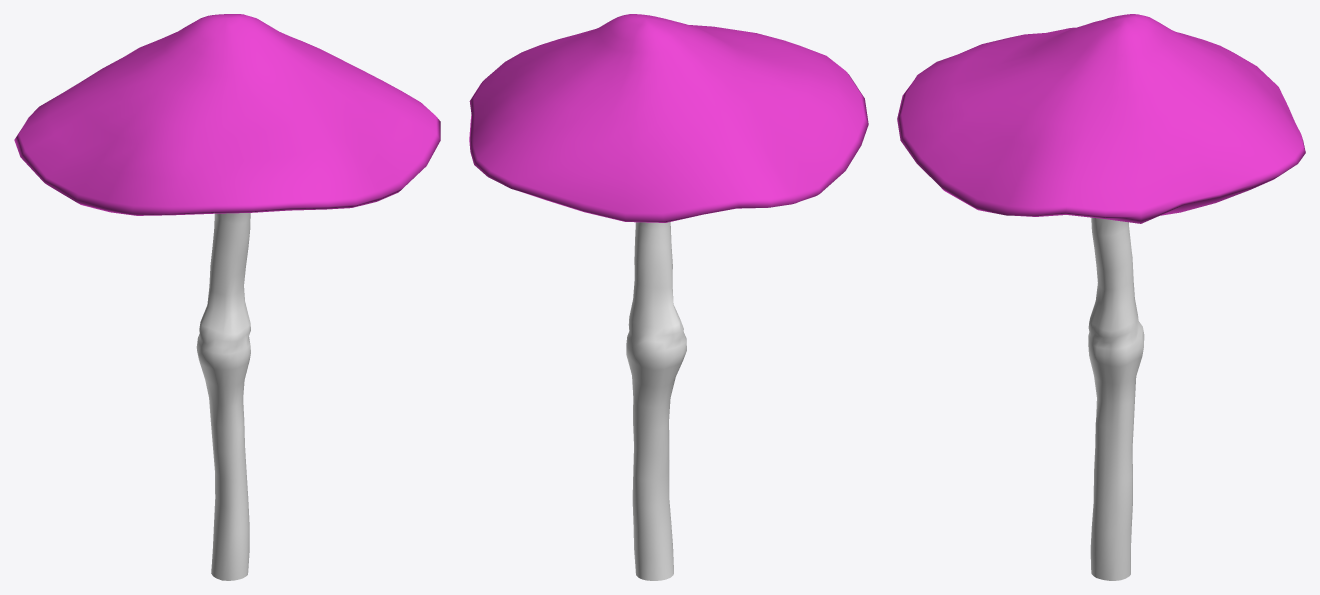
Rendered from HongoAlto1_low4.fbx.
The picture shows the model from 3 angles, left to right: view 1: azimuth 30°, elevation 25°; view 2: azimuth 150°, elevation 25°; view 3: azimuth 270°, elevation 25°; orthographic projection.
Visible parts, largest first — view 1: HongoAlto1_low4; view 2: HongoAlto1_low4; view 3: HongoAlto1_low4.
Boxes of the visible parts, x1,y1,x2,y2 form: HongoAlto1_low4: (14, 14, 440, 580); HongoAlto1_low4: (469, 14, 868, 580); HongoAlto1_low4: (897, 14, 1305, 580).
Bounding box in the file's own units: 11.02 × 10.97 × 16.55.
